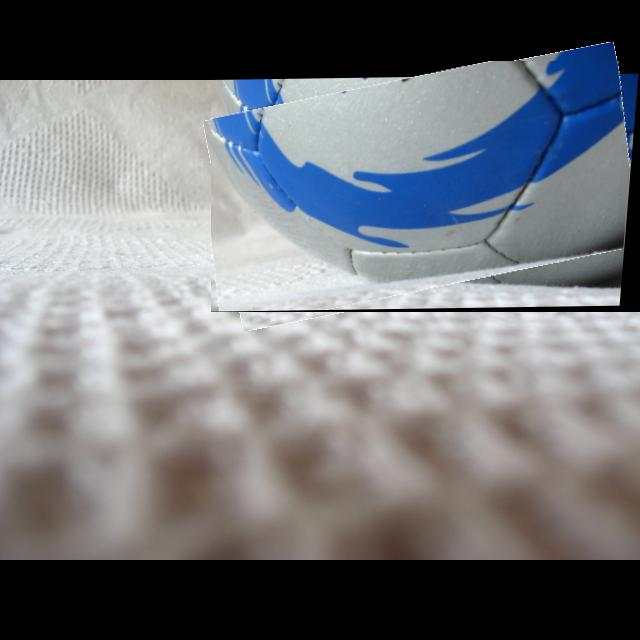Football: (211, 61, 640, 312)
